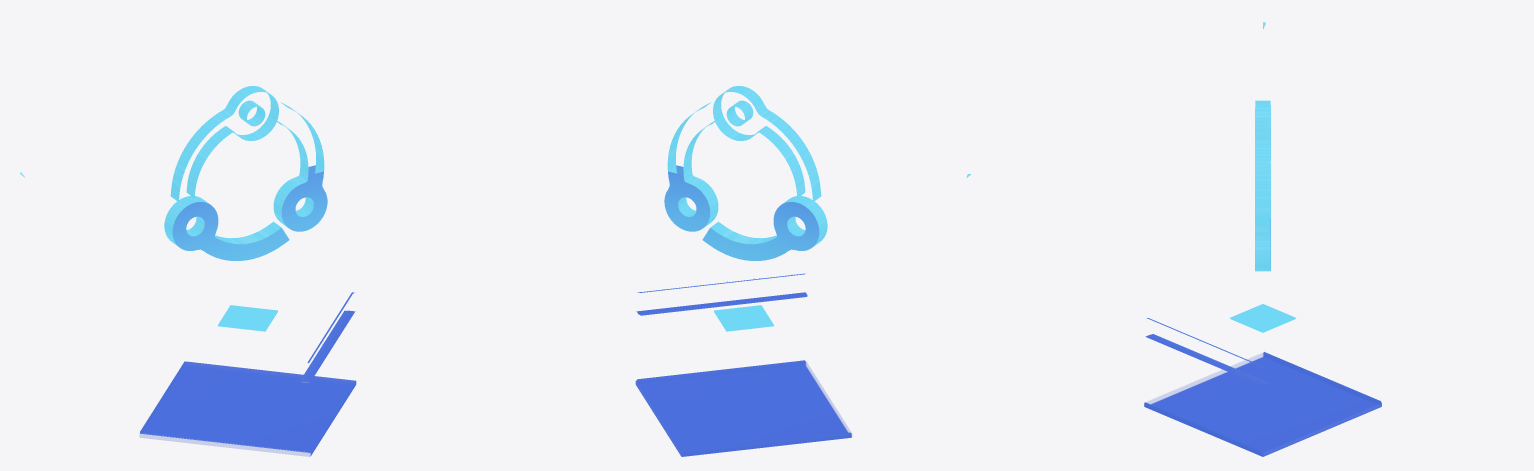
The model's file is AIOne.fbx.
3 renders of one model, left to right at view 1: azimuth 30°, elevation 25°; view 2: azimuth 150°, elevation 25°; view 3: azimuth 270°, elevation 25°, orthographic. The views are drawn at different scales.
Parts seen in each view (by area): view 1: 空白; view 2: 空白; view 3: 空白.
Boxes of the visible parts, bbox=[...] form: 空白: bbox=[20, 86, 356, 456]; 空白: bbox=[635, 86, 971, 456]; 空白: bbox=[1144, 22, 1381, 456].
Bounding box in the file's own units: 70.09 × 46.03 × 70.09.
